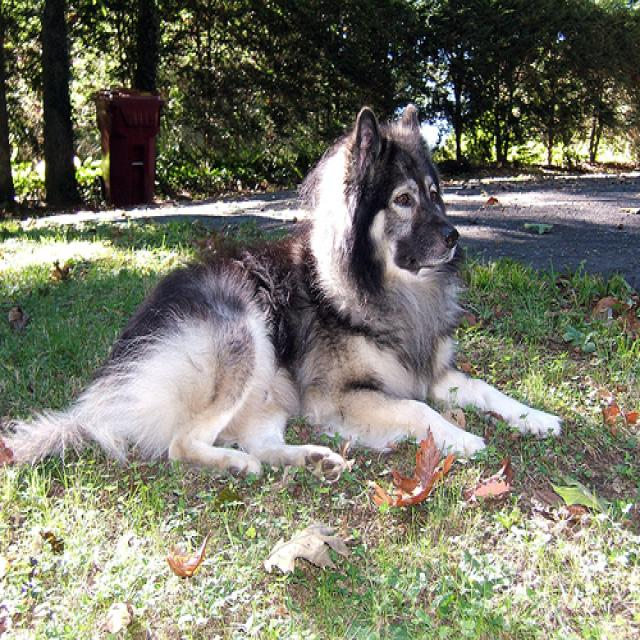dog-keeshond: (4, 85, 558, 493)
